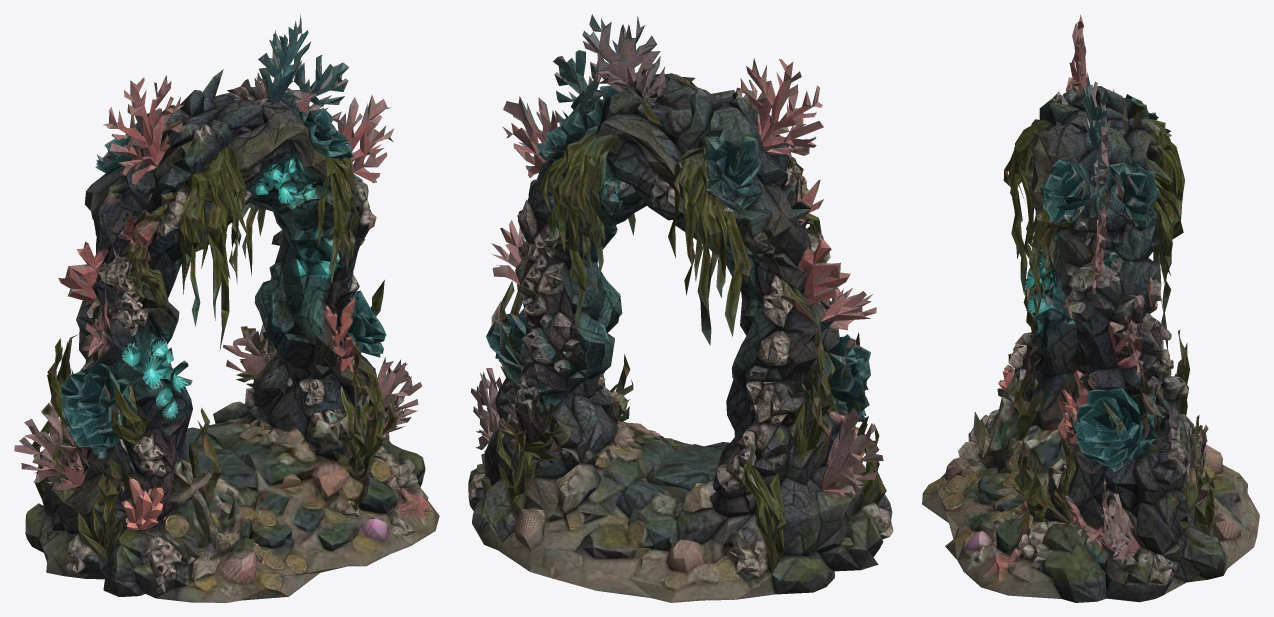
Rendered from model.opt.glb.
3 renders of one model, left to right at view 1: azimuth 30°, elevation 25°; view 2: azimuth 150°, elevation 25°; view 3: azimuth 270°, elevation 25°, orthographic. The views are drawn at different scales.
Visible parts, largest first — view 1: Mesh_0; view 2: Mesh_0; view 3: Mesh_0.
Boxes of the visible parts, x1,y1,x2,y2 form: Mesh_0: (14,14,439,602); Mesh_0: (468,14,893,602); Mesh_0: (922,15,1259,602).
Bounding box in the file's own units: 1.66 × 1.9 × 1.25.
1 material, 1 textured.
